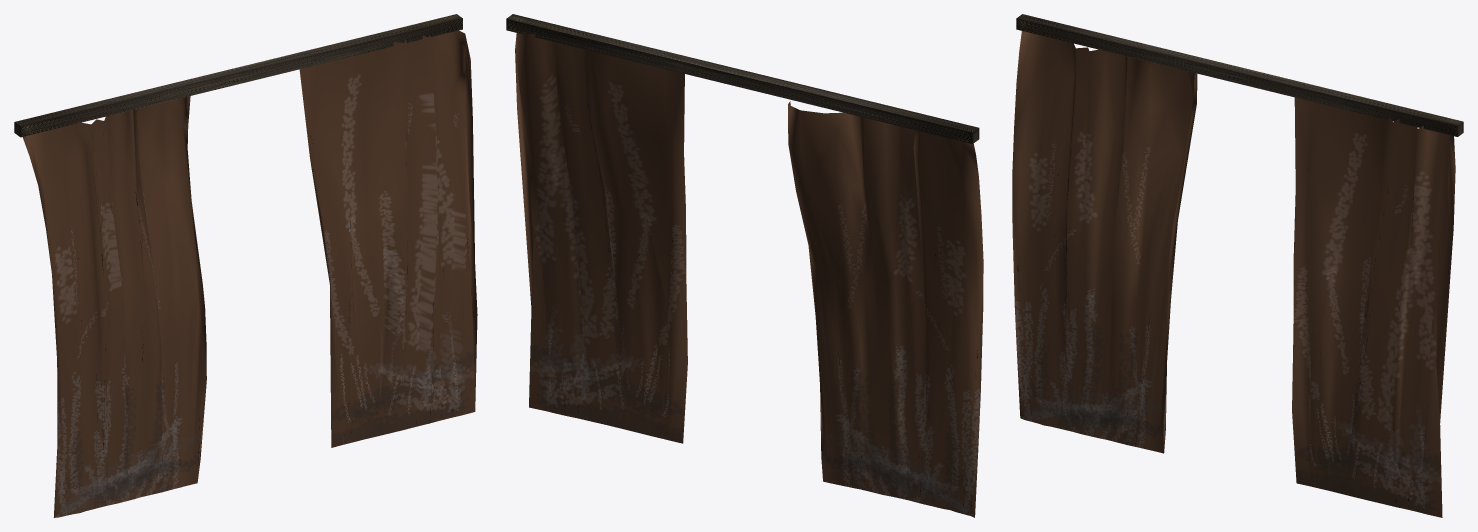
Rendered from Curtains.fbx.
3 renders of one model, left to right at view 1: azimuth 30°, elevation 25°; view 2: azimuth 150°, elevation 25°; view 3: azimuth 330°, elevation 25°, orthographic. The views are drawn at different scales.
Visible parts, largest first — view 1: Cube.002; view 2: Cube.002; view 3: Cube.002.
Boxes of the visible parts, x1,y1,x2,y2 form: Cube.002: (14, 14, 477, 517); Cube.002: (506, 14, 983, 517); Cube.002: (1012, 14, 1463, 517).
Size of the model in its own units: 506 by 419 by 66.5.
2 materials, 2 textured.
